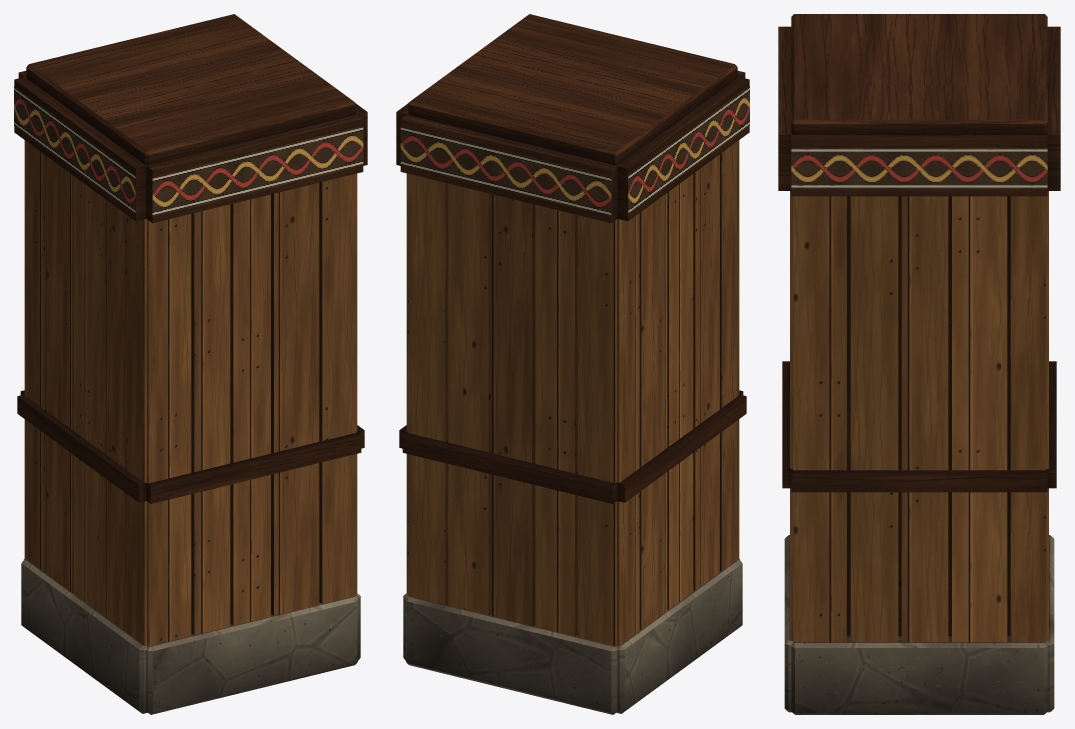
The model's file is interior_wall_timber.glb.
The picture shows the model from 3 angles, left to right: view 1: azimuth 30°, elevation 25°; view 2: azimuth 150°, elevation 25°; view 3: azimuth 270°, elevation 25°; orthographic projection. The views are drawn at different scales.
Visible parts, largest first — view 1: interior_wall_timber; view 2: interior_wall_timber; view 3: interior_wall_timber.
Boxes of the visible parts, x1,y1,x2,y2 form: interior_wall_timber: [14, 14, 367, 714]; interior_wall_timber: [396, 14, 749, 714]; interior_wall_timber: [778, 14, 1060, 714].
Size of the model in its own units: 1.1 by 2.55 by 1.1.
4 materials, 4 textured.
